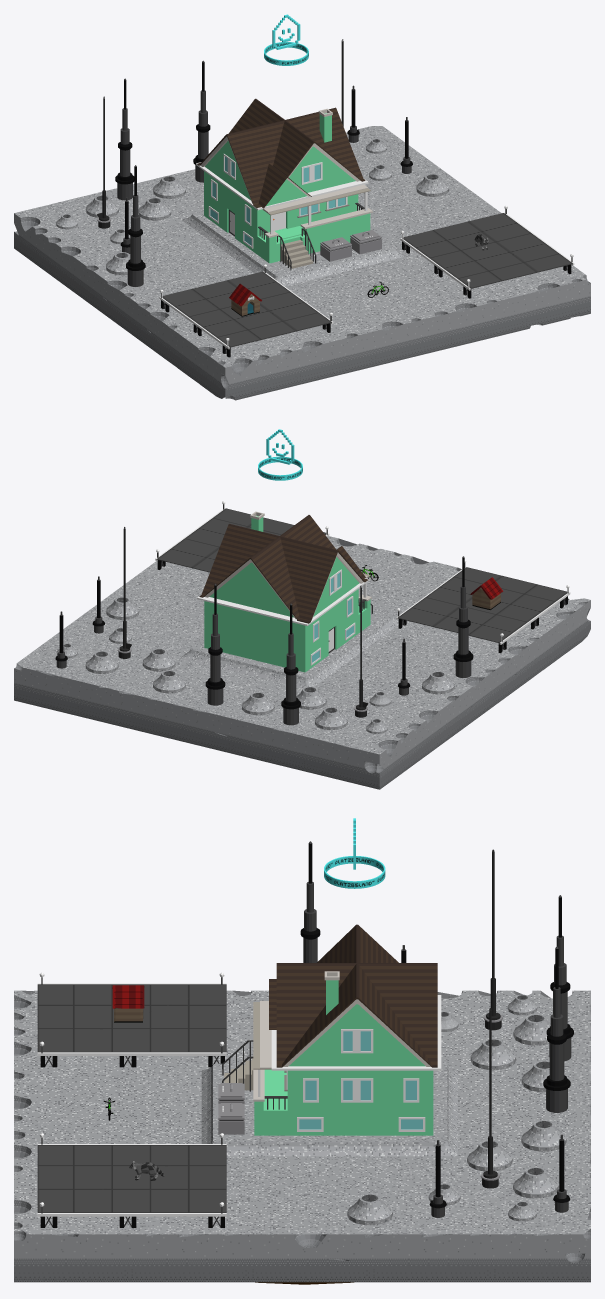
3 renders of one model, top to bottom at view 1: azimuth 30°, elevation 25°; view 2: azimuth 150°, elevation 25°; view 3: azimuth 270°, elevation 25°, orthographic. The views are drawn at different scales.
Visible parts, largest first — view 1: Cube.027, Cube.352, Cube.026, Cube.025, Cube.028, Cylinder.021, Cylinder.020, Cylinder.017, TYPE_PREMIUM, OBJRANDOM_DOGHOUSE, Cube.029, Cube.030 (+3 smaller); view 2: Cube.027, Cube.352, Cube.025, Cube.028, Cube.026, Cylinder.017, Cylinder.021, Cylinder.020, TYPE_PREMIUM, OBJRANDOM_DOGHOUSE, Cylinder.030, Cylinder.029 (+7 smaller); view 3: Cube.027, Cube.352, Cube.026, Cube.025, Cube.028, Cylinder.017, Cylinder.020, Cylinder.021, OBJRANDOM_DOGHOUSE, TYPE_PREMIUM, Cylinder.033, Cylinder.031 (+10 smaller).
Boxes of the visible parts, x1,y1,x2,y2 form: Cube.027: [14, 126, 590, 400]; Cube.352: [196, 98, 372, 269]; Cube.026: [400, 205, 574, 298]; Cube.025: [159, 264, 333, 357]; Cube.028: [182, 211, 403, 286]; Cylinder.021: [126, 165, 145, 286]; Cylinder.020: [115, 78, 134, 200]; Cylinder.017: [193, 60, 210, 182]; TYPE_PREMIUM: [264, 14, 308, 65]; OBJRANDOM_DOGHOUSE: [229, 283, 261, 316]; Cube.029: [320, 237, 351, 261]; Cube.030: [350, 230, 381, 254]; Cube.027: [14, 536, 590, 789]; Cube.352: [197, 511, 372, 672]; Cube.025: [396, 560, 570, 653]; Cube.028: [181, 610, 398, 688]; Cube.026: [155, 501, 329, 572]; Cylinder.017: [205, 583, 225, 705]; Cylinder.021: [453, 556, 473, 677]; Cylinder.020: [281, 603, 300, 725]; TYPE_PREMIUM: [258, 429, 302, 480]; OBJRANDOM_DOGHOUSE: [470, 577, 503, 609]; Cylinder.030: [142, 648, 175, 671]; Cylinder.029: [153, 670, 185, 693]; Cube.027: [14, 990, 590, 1282]; Cube.352: [222, 924, 441, 1135]; Cube.026: [37, 1133, 226, 1227]; Cube.025: [37, 972, 226, 1067]; Cube.028: [201, 1063, 457, 1156]; Cylinder.017: [543, 946, 570, 1112]; Cylinder.020: [546, 895, 573, 1061]; Cylinder.021: [300, 841, 320, 962]; OBJRANDOM_DOGHOUSE: [112, 985, 144, 1022]; TYPE_PREMIUM: [324, 818, 385, 888]; Cylinder.033: [347, 1193, 392, 1225]; Cylinder.031: [513, 1167, 558, 1198].
Size of the model in its own units: 4000 by 2770 by 4000.
Materials: 41 (5 with a texture image).
